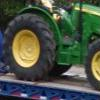Tractor: (6, 5, 100, 87)
